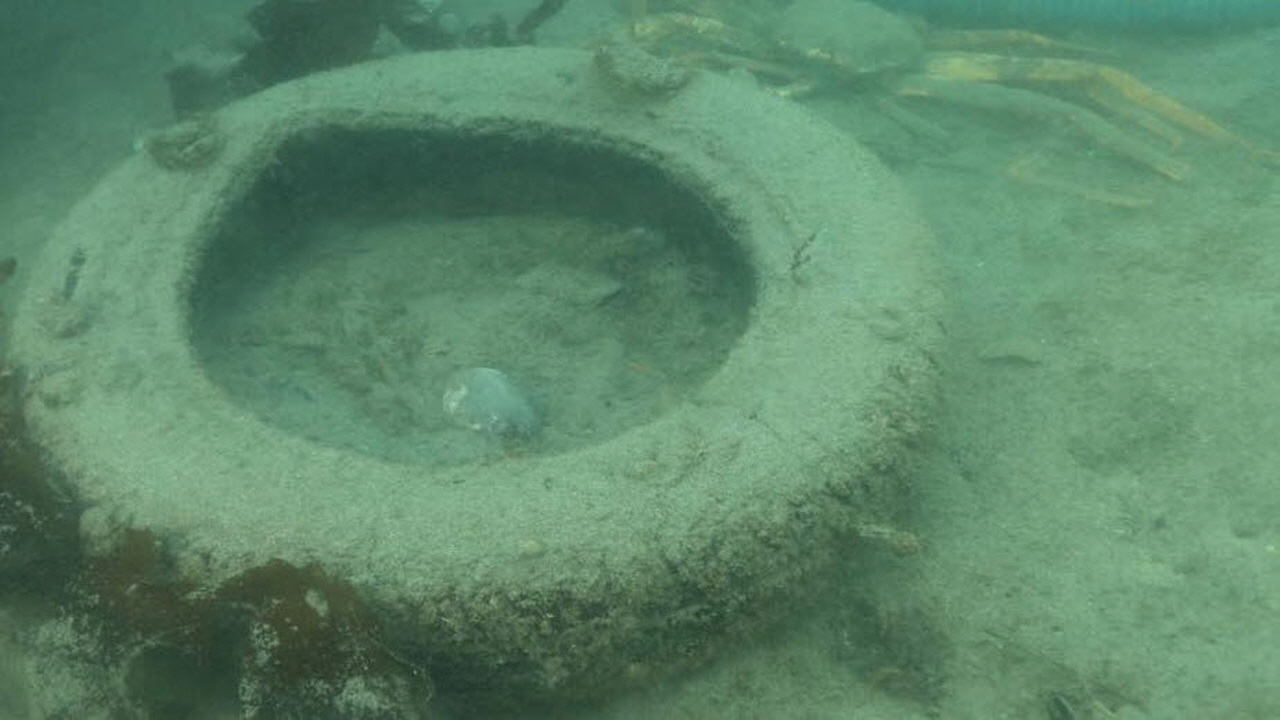tire: (11, 40, 946, 718)
